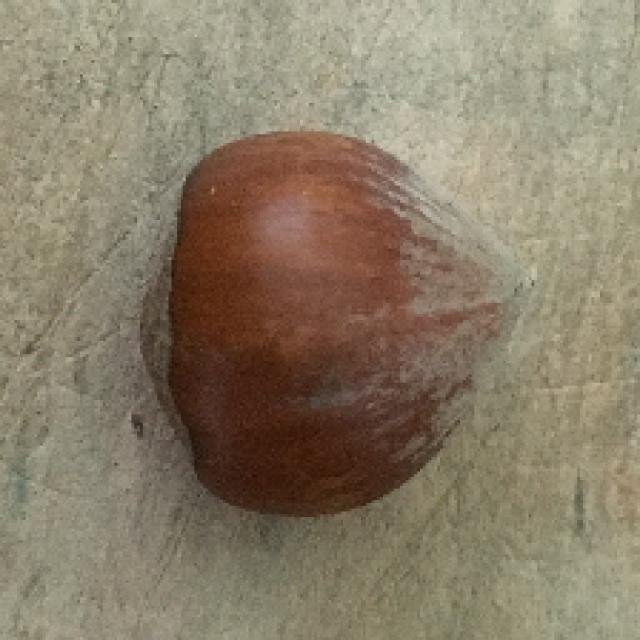qualityHazelnut: (128, 117, 540, 518)
